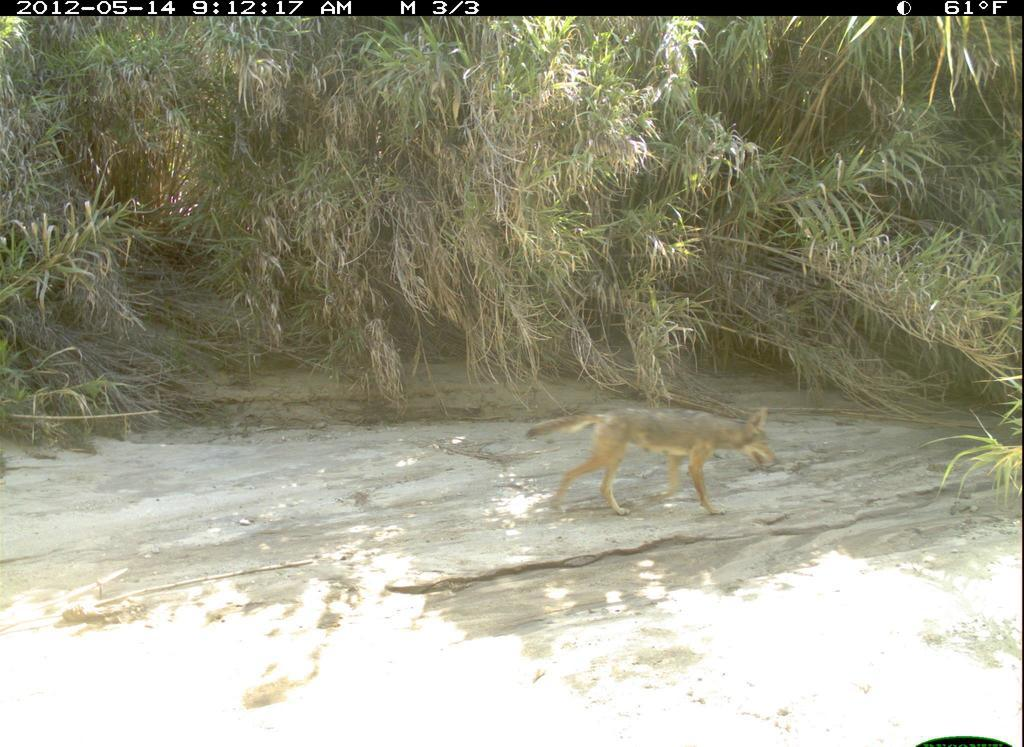coyote: (520, 396, 789, 521)
